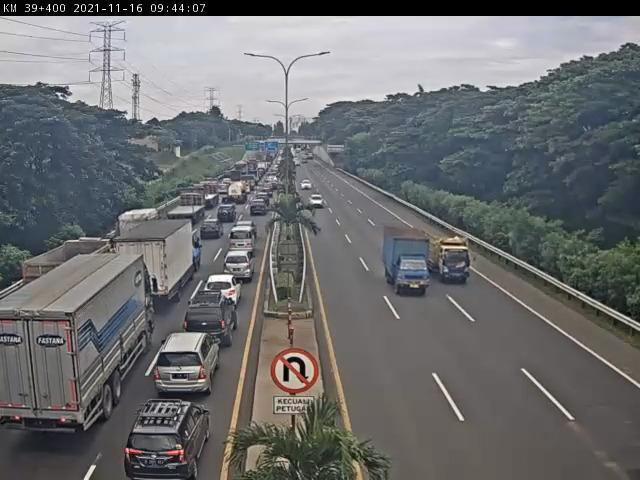car: (121, 395, 218, 480), (150, 328, 228, 403), (181, 285, 243, 341), (220, 250, 262, 282), (203, 269, 239, 305), (227, 227, 260, 252), (309, 193, 338, 214), (201, 217, 222, 243), (217, 203, 242, 224), (248, 200, 275, 219), (298, 177, 324, 195), (256, 190, 275, 206)
truck: (1, 251, 153, 437), (24, 239, 123, 320), (114, 221, 202, 305), (383, 225, 432, 302), (424, 228, 479, 287), (170, 194, 208, 225), (191, 181, 219, 210)
